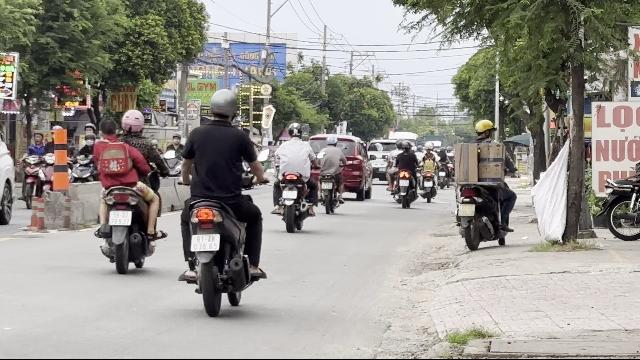helmet: (206, 88, 238, 124), (120, 108, 146, 138), (474, 119, 496, 139)
licenseplate: (192, 234, 220, 251), (110, 210, 132, 226), (458, 204, 474, 216)
motorcyclist: (172, 87, 270, 315), (90, 110, 166, 272), (450, 117, 518, 250)
nohelmet: (98, 116, 118, 138)
